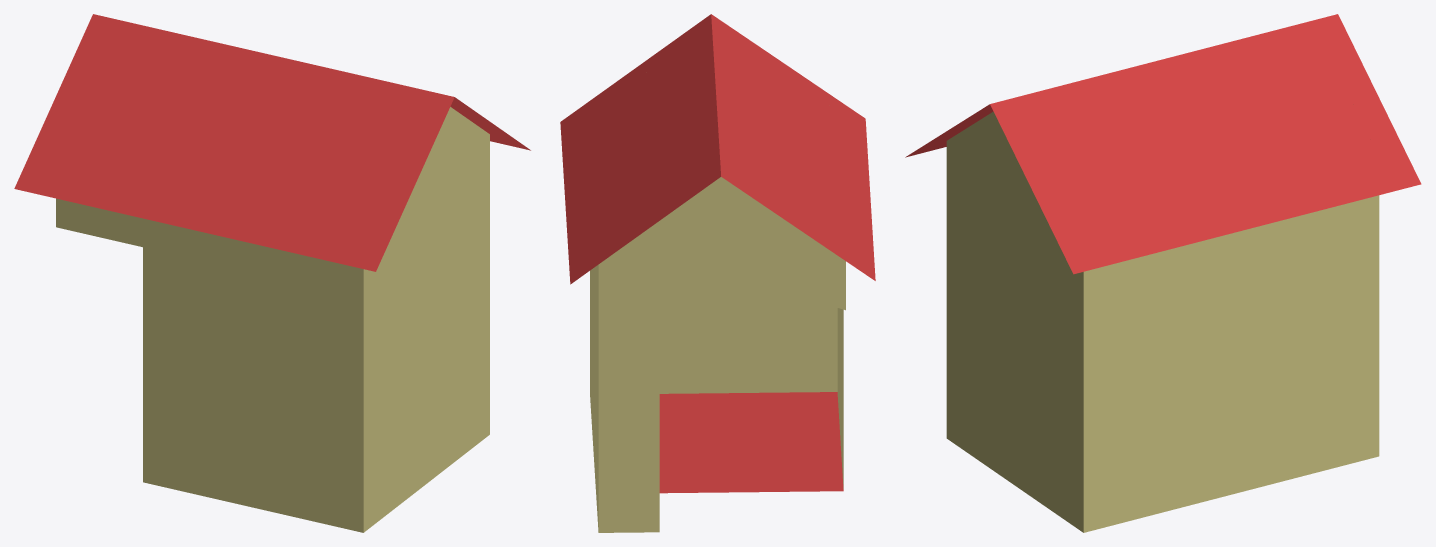
The picture shows the model from 3 angles, left to right: view 1: azimuth 30°, elevation 25°; view 2: azimuth 150°, elevation 25°; view 3: azimuth 270°, elevation 25°; orthographic projection. The views are drawn at different scales.
Size of the model in its own units: 15.96 by 16.87 by 14.01.
